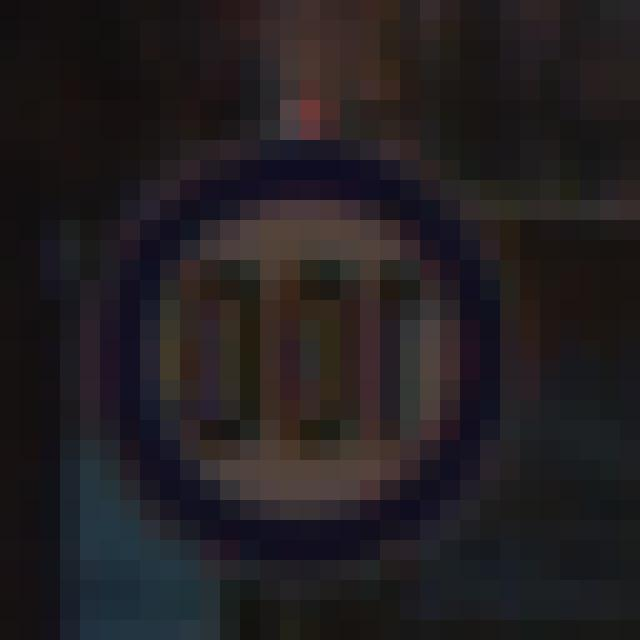SPEED LIMIT 100: (112, 155, 512, 538)
